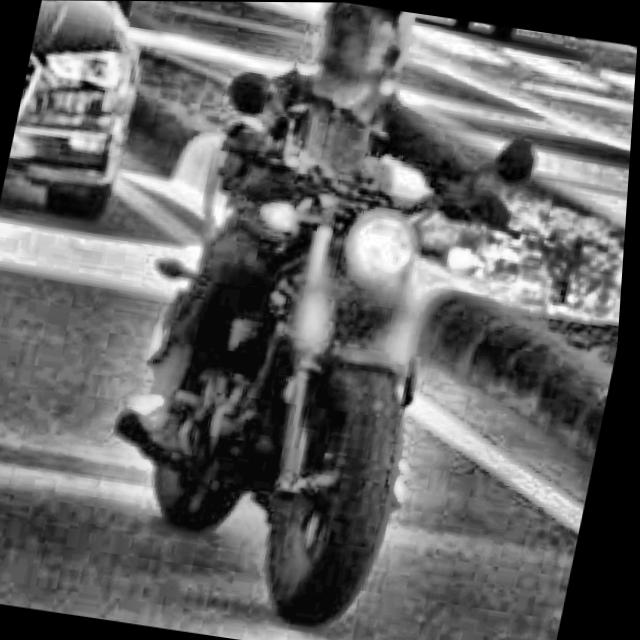motorcycle: (68, 51, 560, 640)
